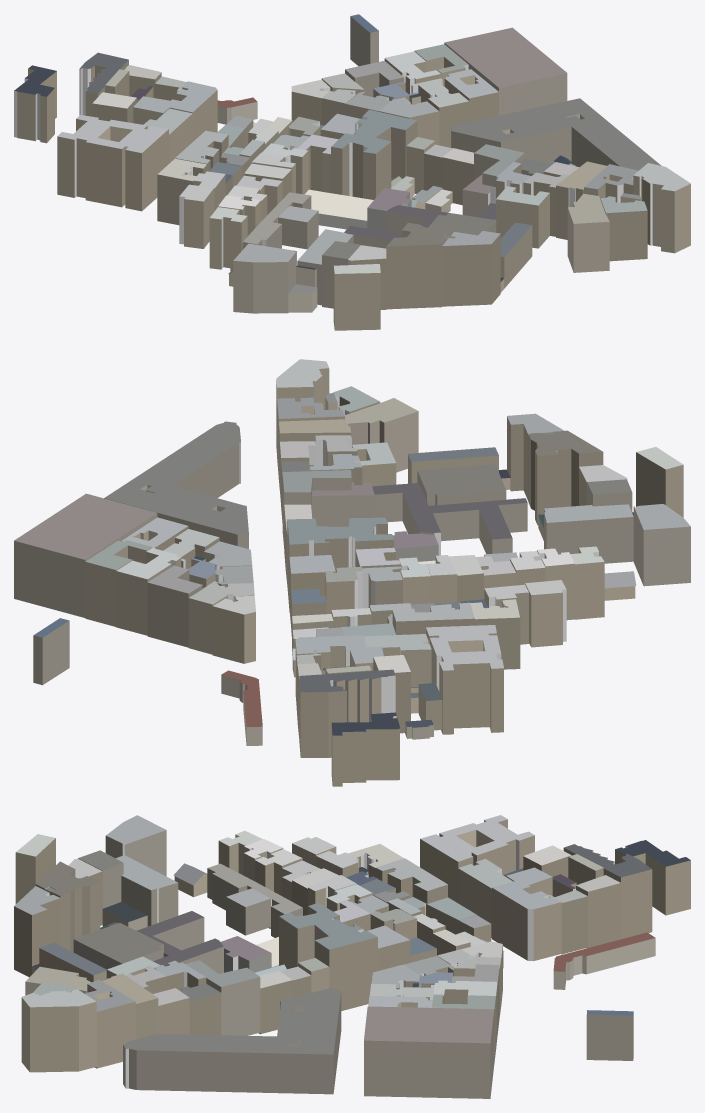
3 views of the same model, one above another, from view 1: azimuth 30°, elevation 25°; view 2: azimuth 150°, elevation 25°; view 3: azimuth 270°, elevation 25° (orthographic). The views are drawn at different scales.
Parts seen in each view (by area): view 1: tuile; view 2: tuile; view 3: tuile.
Part boxes in pixels (x1=…): tuile: x1=14, y1=14, x2=690, y2=330; tuile: x1=14, y1=359, x2=690, y2=786; tuile: x1=14, y1=815, x2=690, y2=1098.
Size of the model in its own units: 217 by 34.57 by 268.
